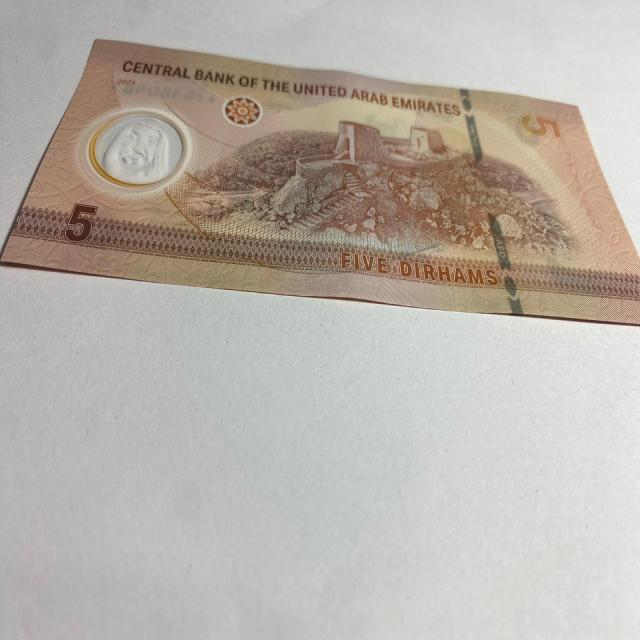5_AED: (2, 35, 637, 328)
